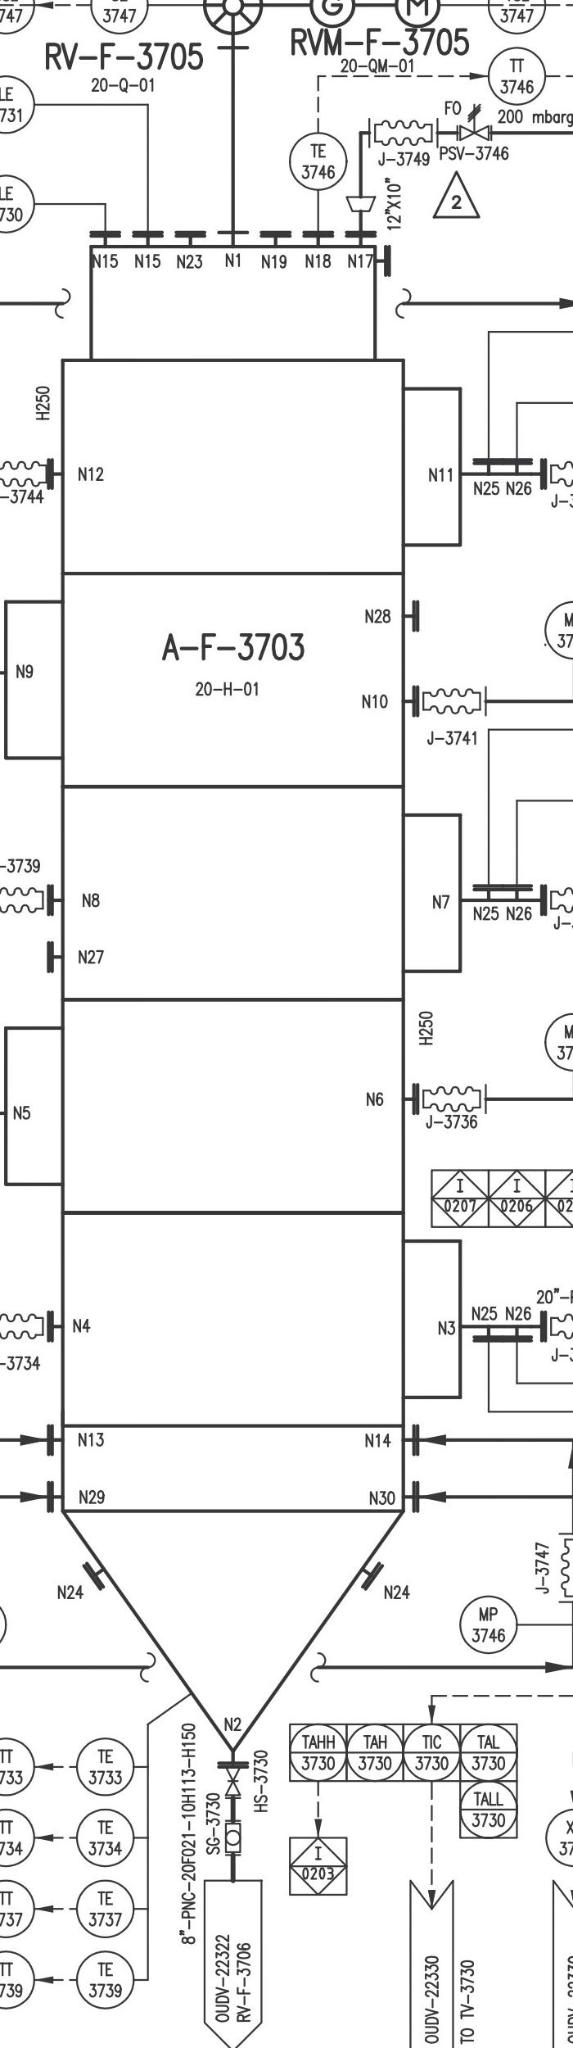A3: (56, 238, 415, 1758)
EJ: (415, 1079, 491, 1117), (416, 684, 489, 718), (364, 118, 441, 149)
GV: (214, 1765, 252, 1797)
RPV: (459, 101, 491, 142)
SG: (222, 1817, 248, 1853)
SP: (341, 192, 377, 216)
